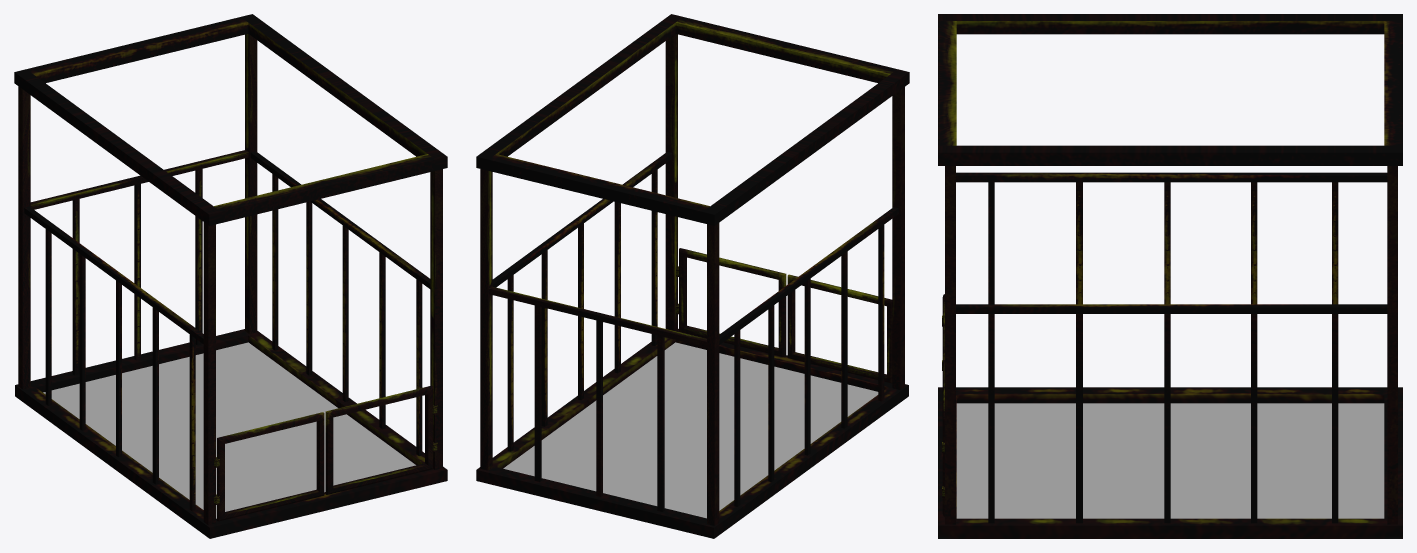
File: Cage Model.fbx
The picture shows the model from 3 angles, left to right: view 1: azimuth 30°, elevation 25°; view 2: azimuth 150°, elevation 25°; view 3: azimuth 270°, elevation 25°; orthographic projection. The views are drawn at different scales.
Parts seen in each view (by area): view 1: polySurface29; view 2: polySurface29; view 3: polySurface29.
Boxes of the visible parts, <box> form: polySurface29: <box>14,14,447,538</box>; polySurface29: <box>476,14,909,538</box>; polySurface29: <box>938,14,1402,538</box>.
Bounding box in the file's own units: 5.37 × 6.99 × 7.62.
3 materials, 2 textured.
